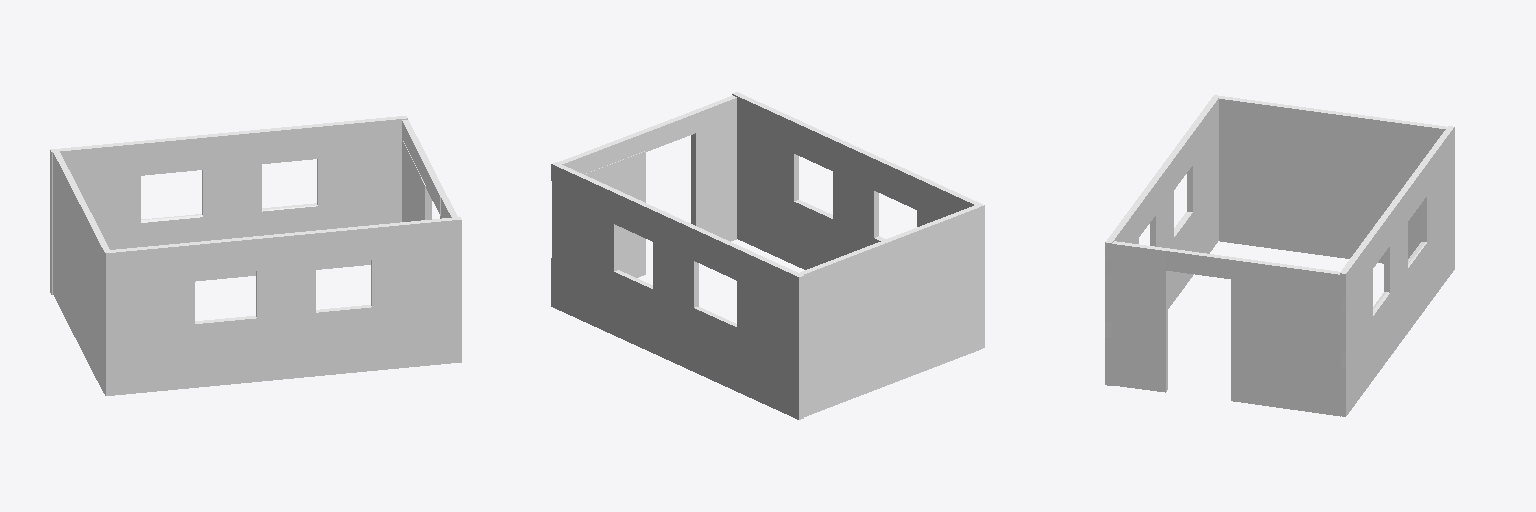
The model's file is Hut_Main.obj.
The picture shows the model from 3 angles: view 1: azimuth 30°, elevation 25°; view 2: azimuth 150°, elevation 25°; view 3: azimuth 270°, elevation 25°; orthographic projection.
Parts seen in each view (by area): view 1: house; view 2: house; view 3: house.
Boxes of the visible parts, x1=… form: house: x1=50, y1=116, x2=461, y2=395; house: x1=551, y1=92, x2=984, y2=419; house: x1=1105, y1=95, x2=1454, y2=416.
Size of the model in its own units: 31.54 by 11.74 by 26.